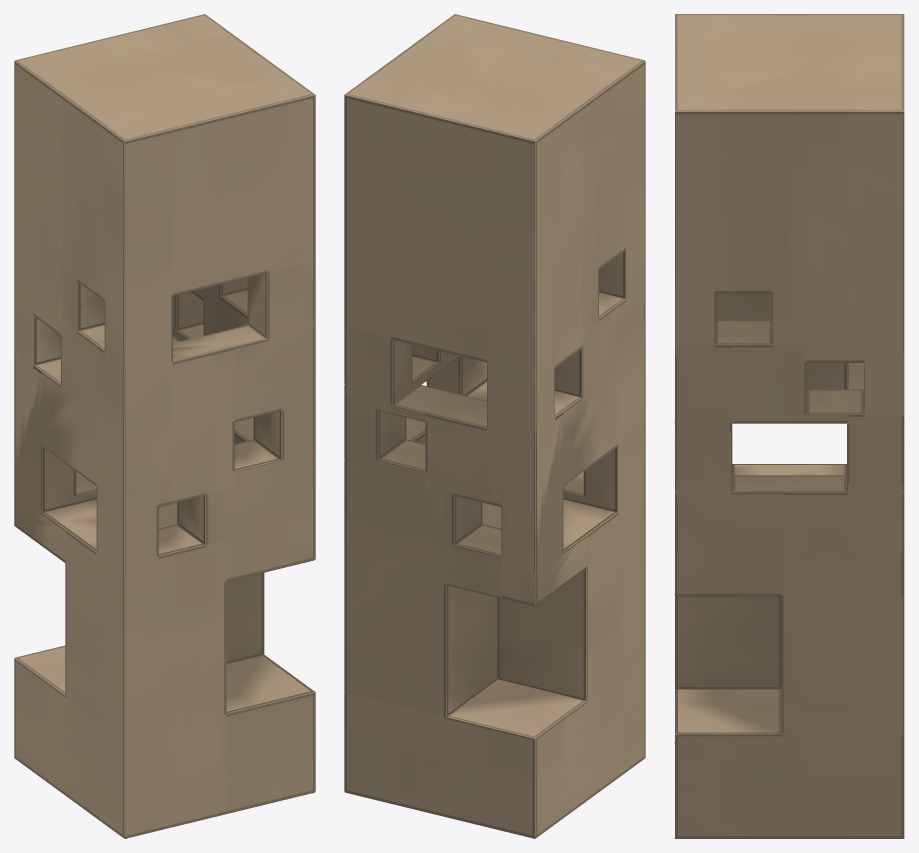
3 views of the same model, side by side, from view 1: azimuth 30°, elevation 25°; view 2: azimuth 150°, elevation 25°; view 3: azimuth 270°, elevation 25° (orthographic). The views are drawn at different scales.
Visible parts, largest first — view 1: part-a; view 2: part-a; view 3: part-a.
Boxes of the visible parts, box(x1,y1,x2,y2) form: part-a: box(14, 14, 315, 838); part-a: box(344, 14, 645, 838); part-a: box(674, 14, 904, 838).
Size of the model in its own units: 0.1208 by 0.4208 by 0.1209.
